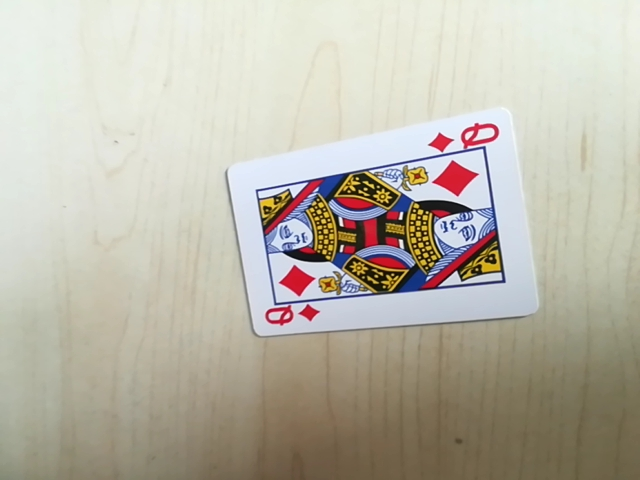fk q: (422, 119, 502, 155), (259, 299, 321, 334)
